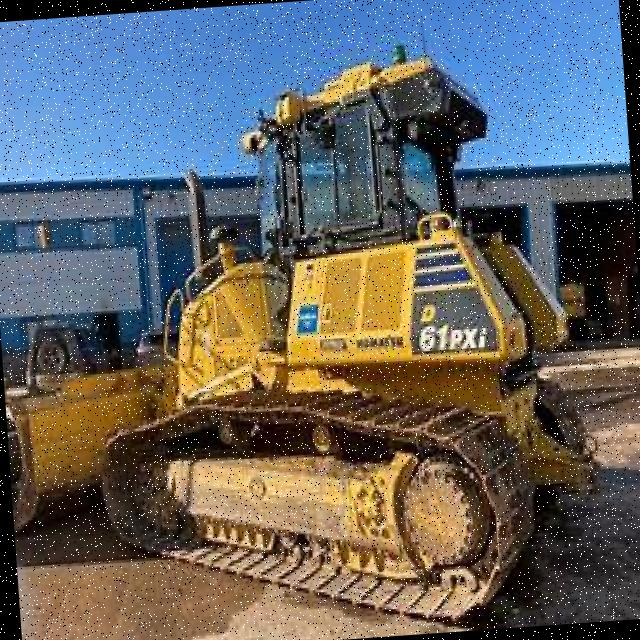Bulldozer: (0, 27, 618, 640)
